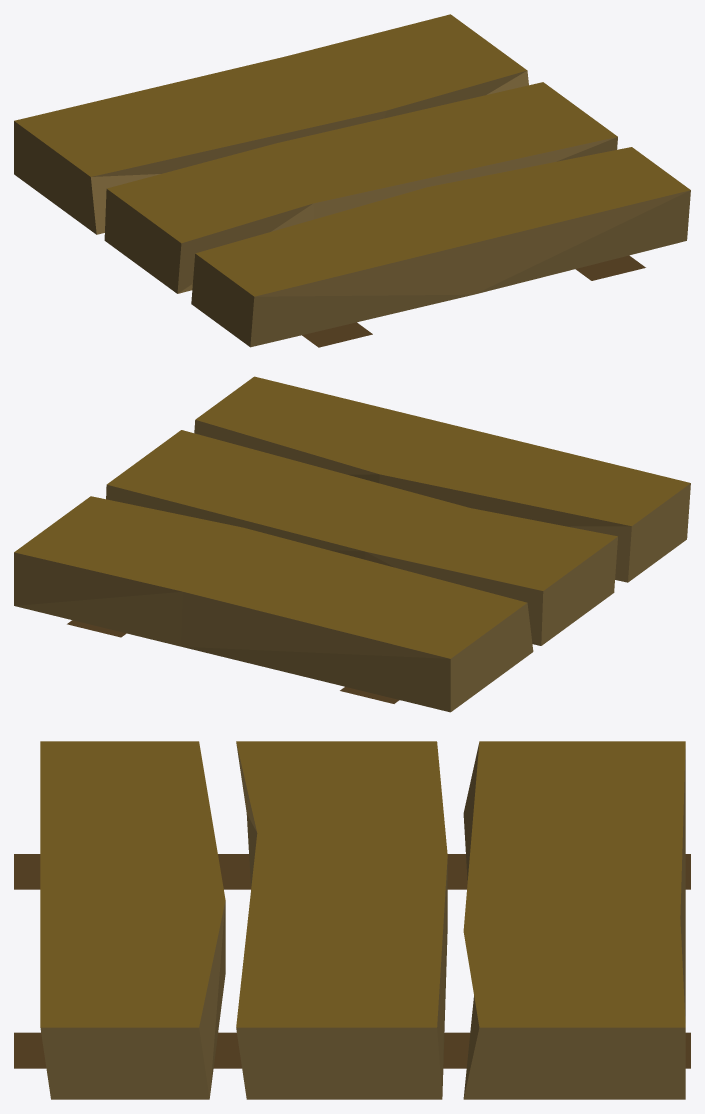
3 views of the same model, one above another, from view 1: azimuth 30°, elevation 25°; view 2: azimuth 150°, elevation 25°; view 3: azimuth 270°, elevation 25° (orthographic). The views are drawn at different scales.
Bounding box in the file's own units: 128 × 16 × 128.
1 material, 1 textured.
